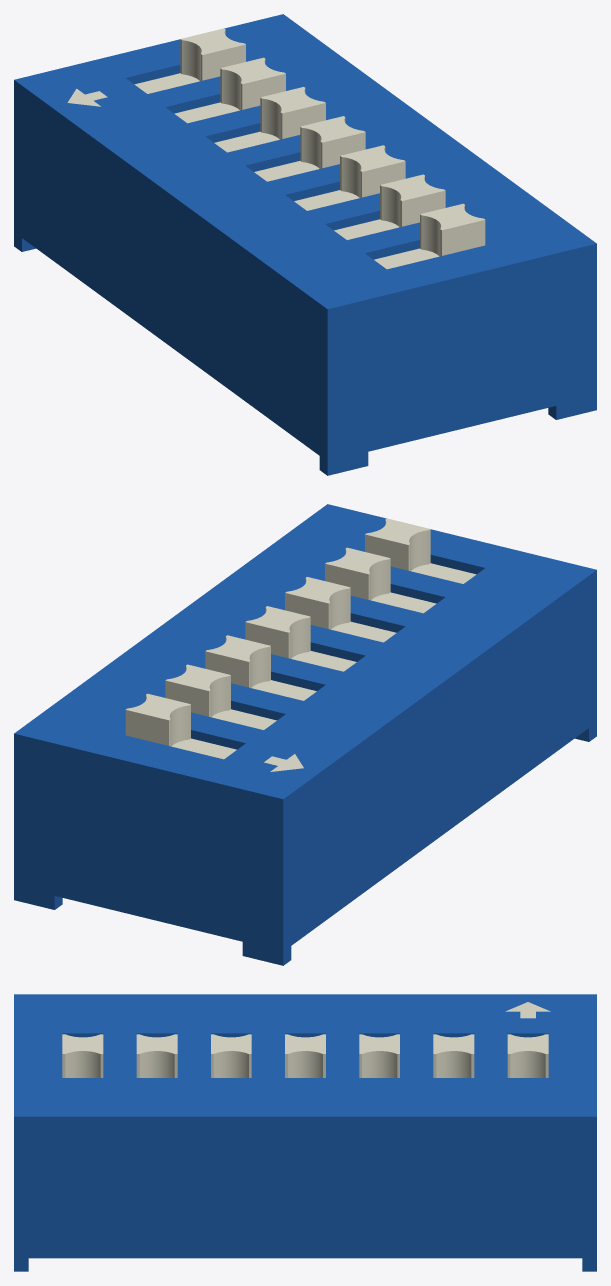
File: dipswitch7.glb
3 renders of one model, top to bottom at view 1: azimuth 30°, elevation 25°; view 2: azimuth 150°, elevation 25°; view 3: azimuth 270°, elevation 25°, orthographic. The views are drawn at different scales.
Visible parts, largest first — view 1: REF**; view 2: REF**; view 3: REF**.
Boxes of the visible parts, <box> form: REF**: <box>14,14,596,475</box>; REF**: <box>14,504,596,965</box>; REF**: <box>14,994,596,1271</box>.
Size of the model in its own units: 9.9 by 6.75 by 19.96.
